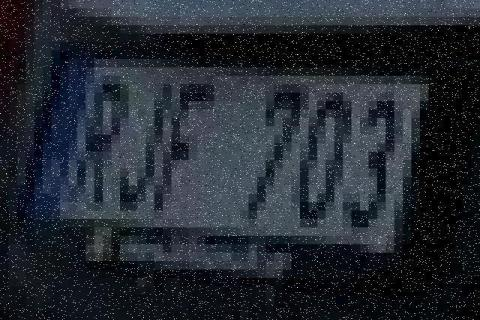LicensePlate: (14, 22, 444, 289)
